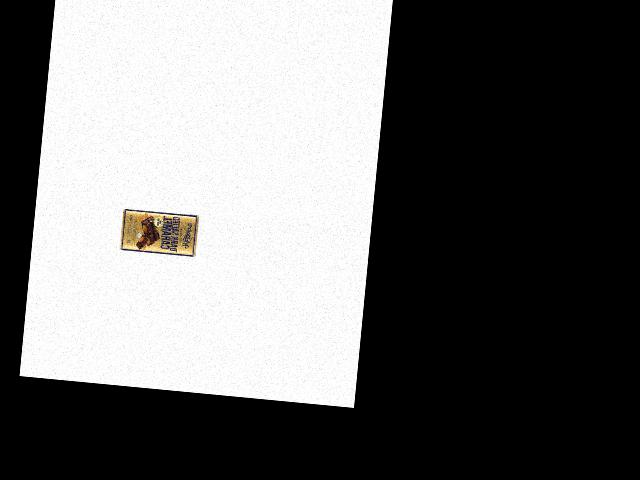chocolate: (117, 204, 198, 258)
